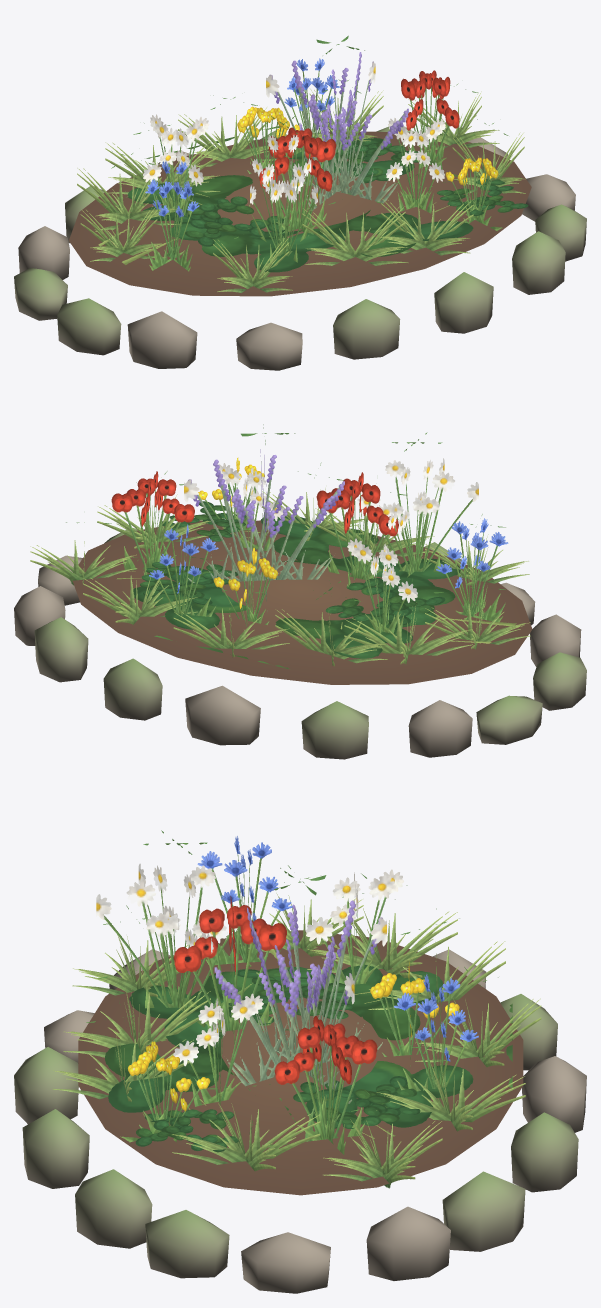
File: flowerbed.glb
3 views of the same model, one above another, from view 1: azimuth 30°, elevation 25°; view 2: azimuth 150°, elevation 25°; view 3: azimuth 270°, elevation 25° (orthographic). The views are drawn at different scales.
Parts seen in each view (by area): view 1: flowerbed; view 2: flowerbed; view 3: flowerbed.
Boxes of the visible parts, x1,y1,x2,y2 form: flowerbed: [14, 35, 586, 370]; flowerbed: [14, 424, 586, 759]; flowerbed: [14, 830, 586, 1293].
Size of the model in its own units: 1.12 by 0.44 by 0.8402.
2 materials, 1 textured.
